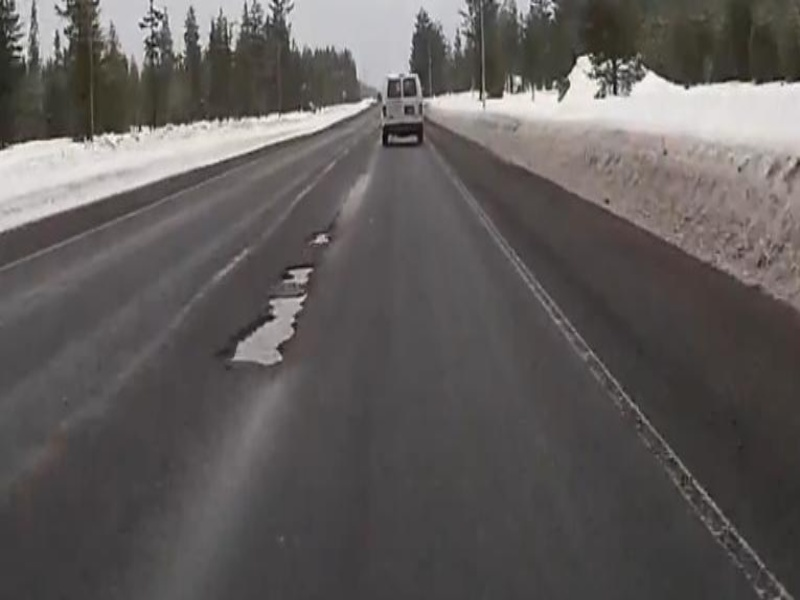pothole: (223, 289, 311, 370), (282, 262, 316, 286), (309, 227, 336, 247)
